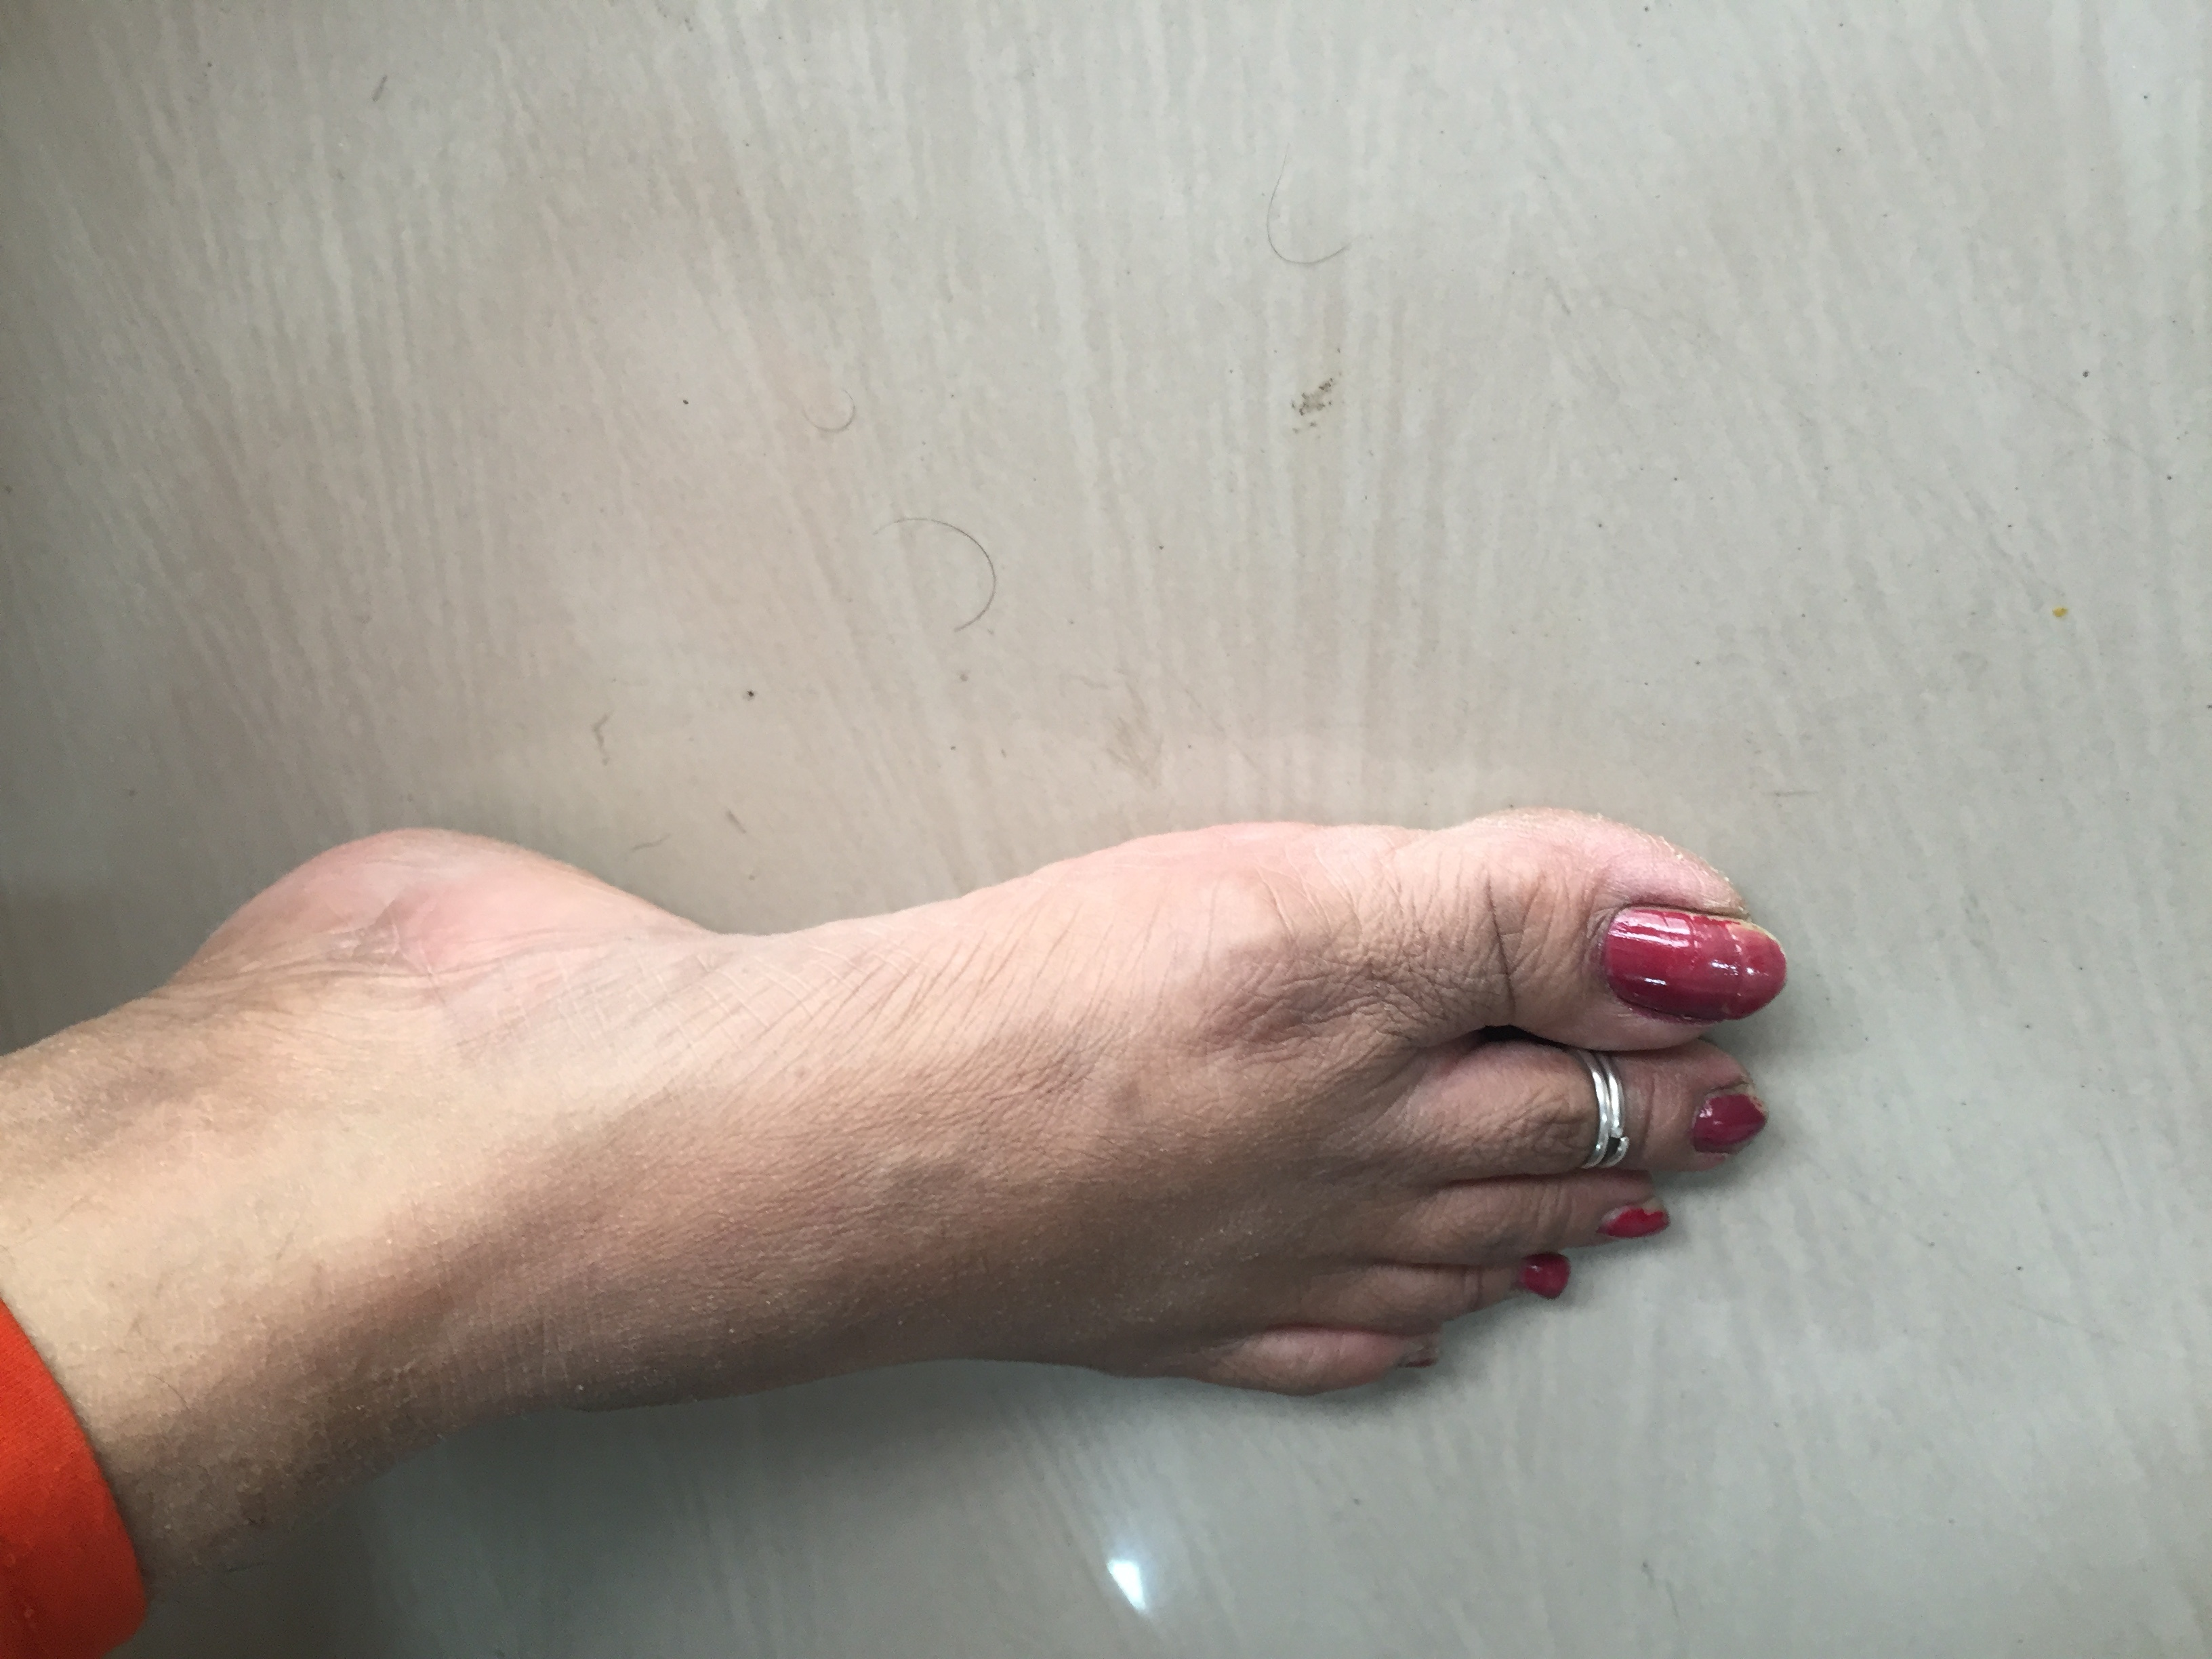feet: (118, 732, 1787, 1518)
